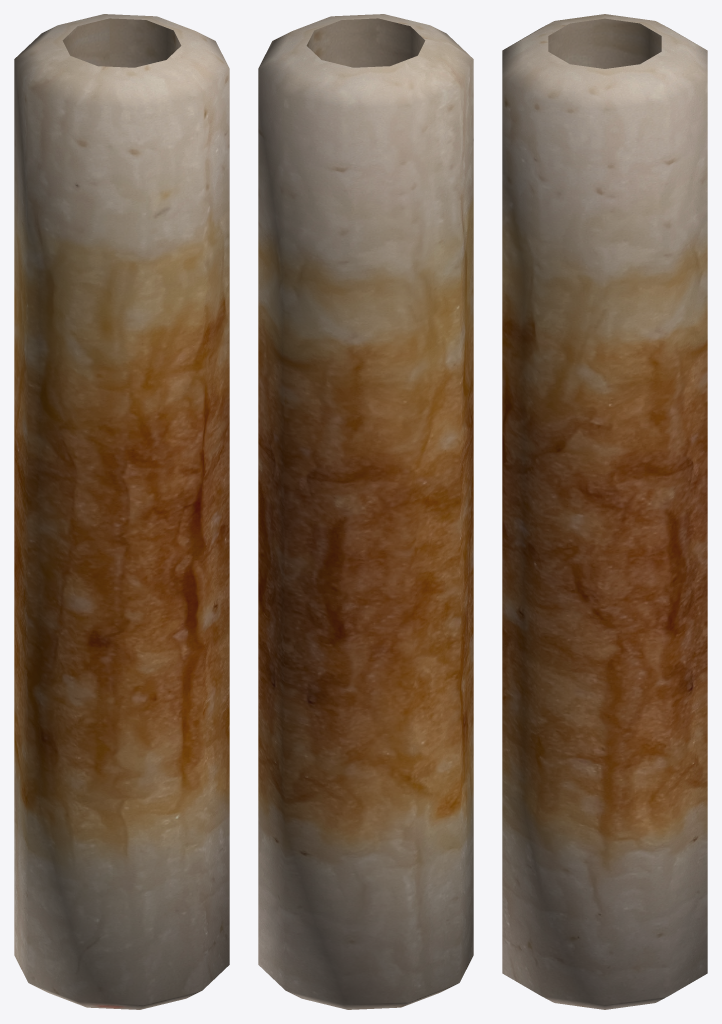
Rendered from Chikuwa.fbx.
The picture shows the model from 3 angles, left to right: view 1: azimuth 30°, elevation 25°; view 2: azimuth 150°, elevation 25°; view 3: azimuth 270°, elevation 25°; orthographic projection.
Visible parts, largest first — view 1: Chikuwa; view 2: Chikuwa; view 3: Chikuwa.
Part boxes in pixels (x1,y1,x2,y2): Chikuwa: [14, 14, 229, 1009]; Chikuwa: [258, 14, 473, 1009]; Chikuwa: [502, 14, 707, 1009].
Bounding box in the file's own units: 22 × 105 × 20.92.
